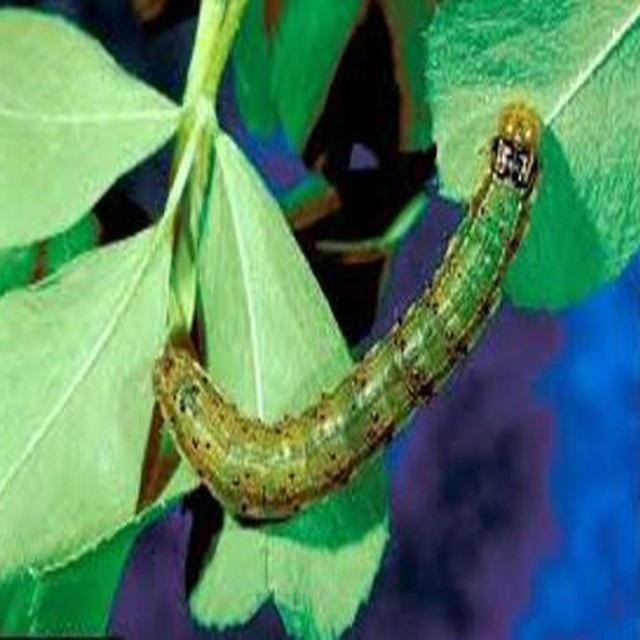gusano_cogollero: (155, 105, 543, 523)
